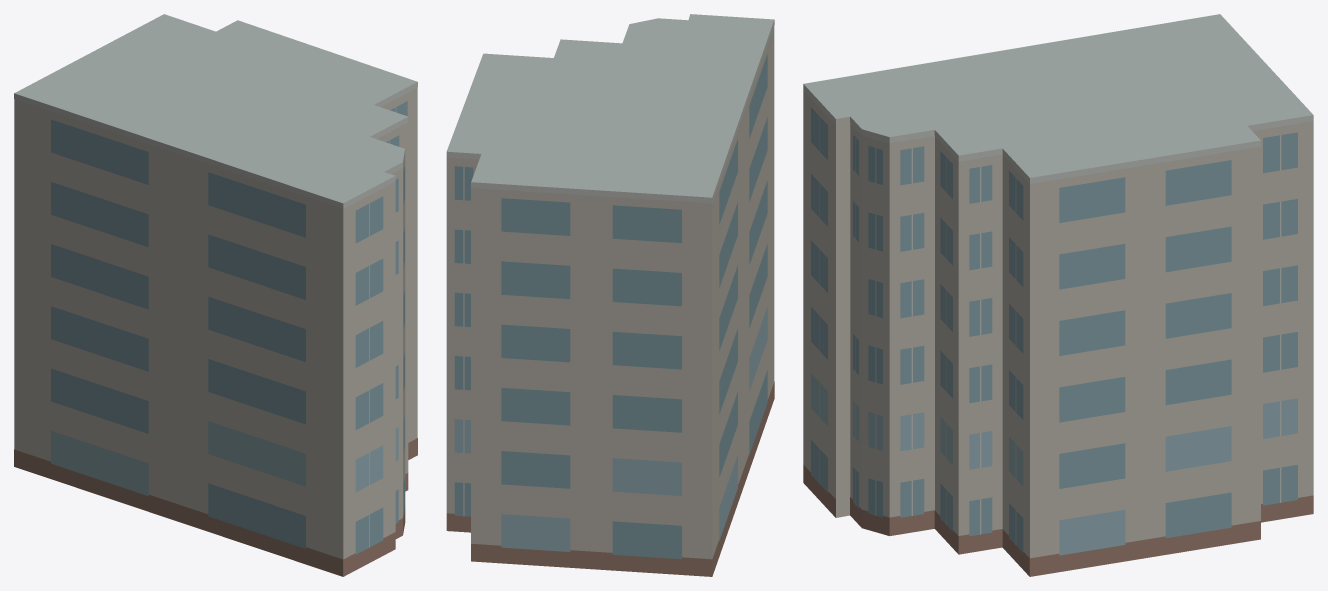
The model's file is survey-upis-32736443.glb.
3 renders of one model, left to right at view 1: azimuth 30°, elevation 25°; view 2: azimuth 150°, elevation 25°; view 3: azimuth 270°, elevation 25°, orthographic. The views are drawn at different scales.
Visible parts, largest first — view 1: survey-upis-32736443.tmp; view 2: survey-upis-32736443.tmp; view 3: survey-upis-32736443.tmp.
Part boxes in pixels (bbox=[...]): survey-upis-32736443.tmp: bbox=[14, 14, 417, 576]; survey-upis-32736443.tmp: bbox=[446, 14, 774, 576]; survey-upis-32736443.tmp: bbox=[803, 14, 1313, 576].
Bounding box in the file's own units: 14.11 × 16 × 18.56.
